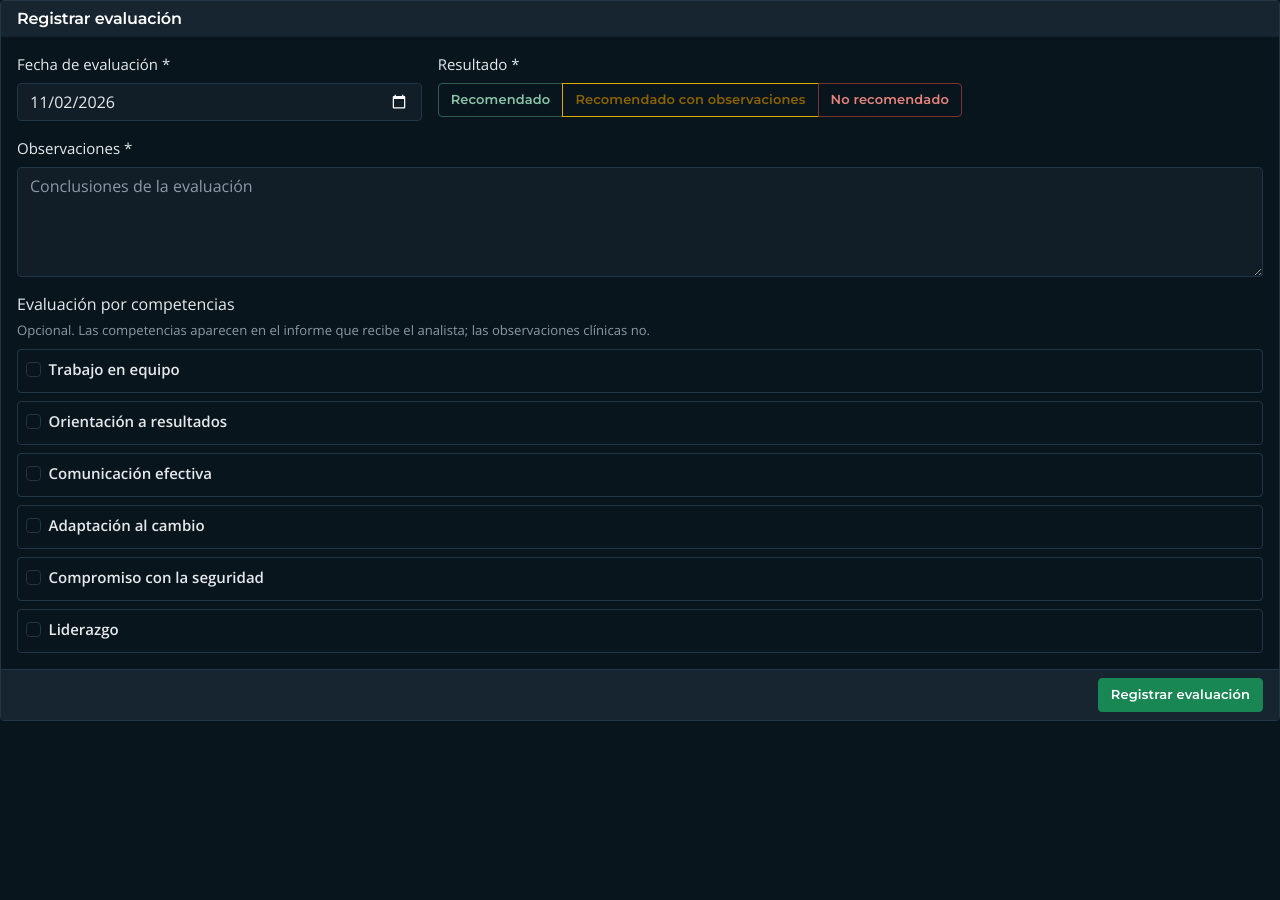
Test: FormularioEvaluacion › exige fecha, resultado y observaciones
This screenshot has width=1280, height=900.
Click the button "Registrar evaluación": (1180, 695) 1098,678 -> 1263,712
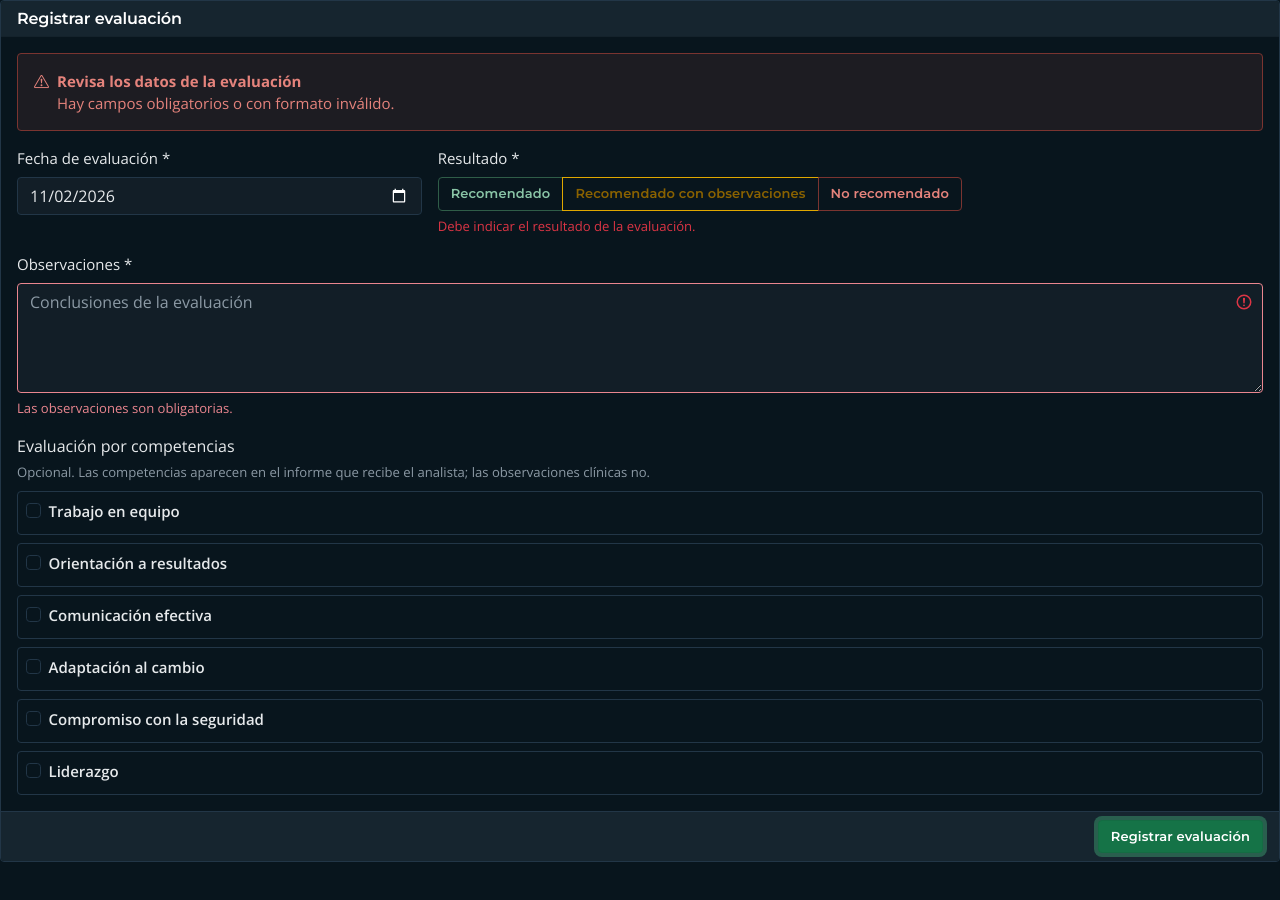
expect the text "Debe indicar el resultado de la evaluación." is shown: met, box 438,217 -> 696,235
expect the text "Las observaciones son obligatorias." is shown: met, box 17,399 -> 233,417
